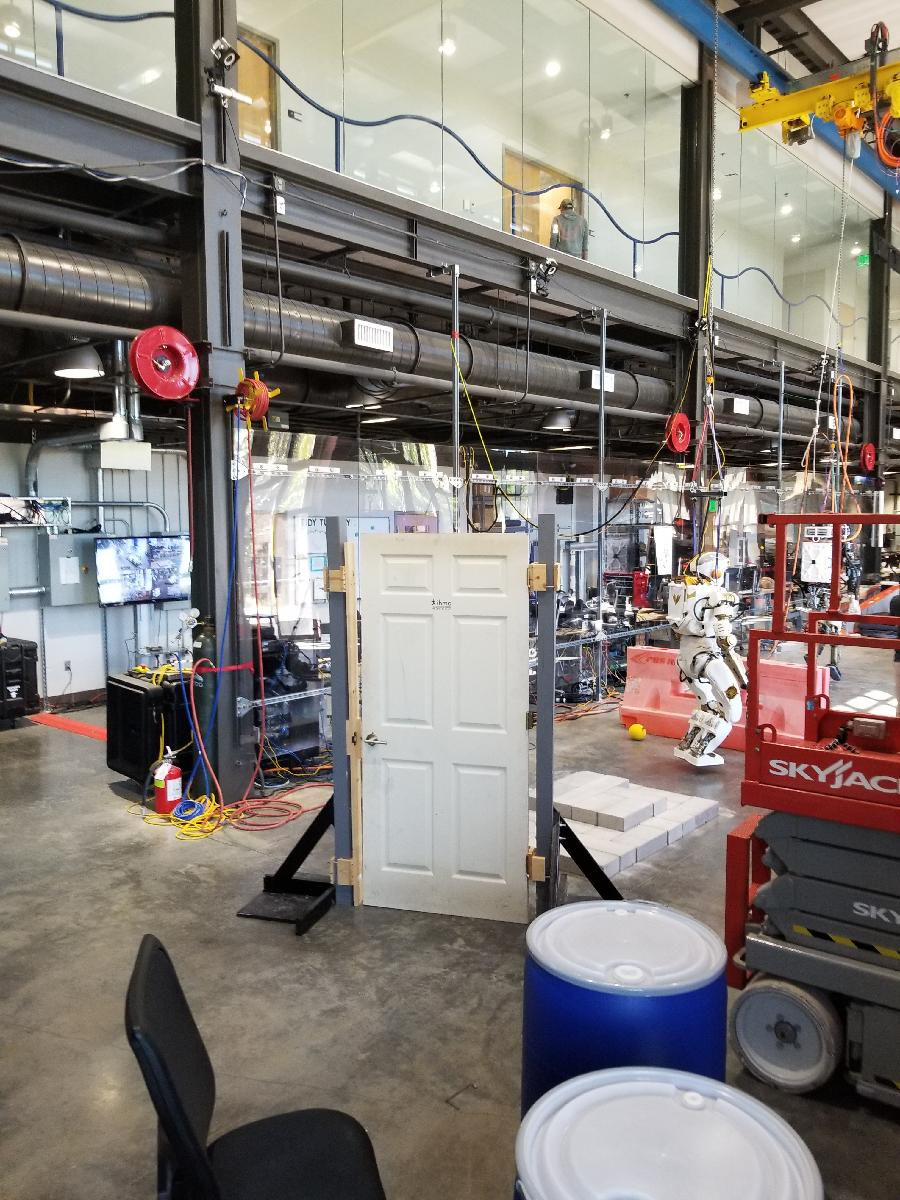door: (355, 526, 535, 930)
doorHandle: (360, 732, 390, 749)
